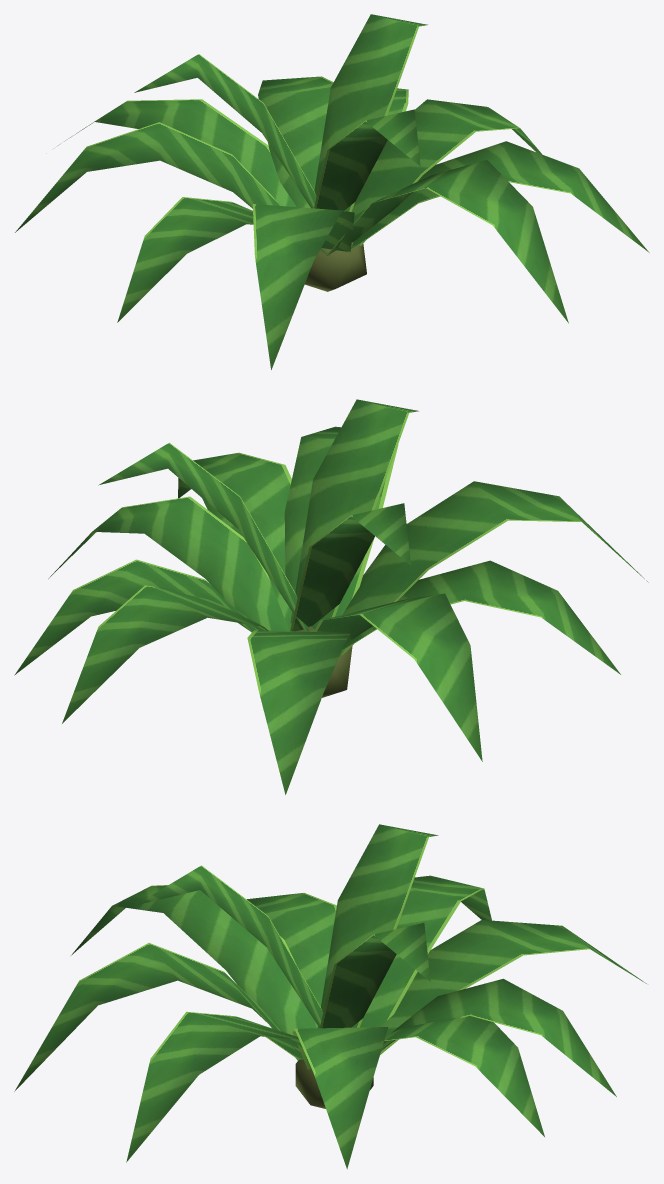
Rendered from fern.glb.
3 renders of one model, top to bottom at view 1: azimuth 30°, elevation 25°; view 2: azimuth 150°, elevation 25°; view 3: azimuth 270°, elevation 25°, orthographic. The views are drawn at different scales.
Visible parts, largest first — view 1: fern; view 2: fern; view 3: fern.
Part boxes in pixels (left/top/right/bottom): fern: left=15, top=14, right=649, bottom=369; fern: left=14, top=399, right=648, bottom=794; fern: left=14, top=824, right=646, bottom=1169.
Size of the model in its own units: 2.01 by 0.8944 by 2.22.
Materials: 2 (2 with a texture image).
